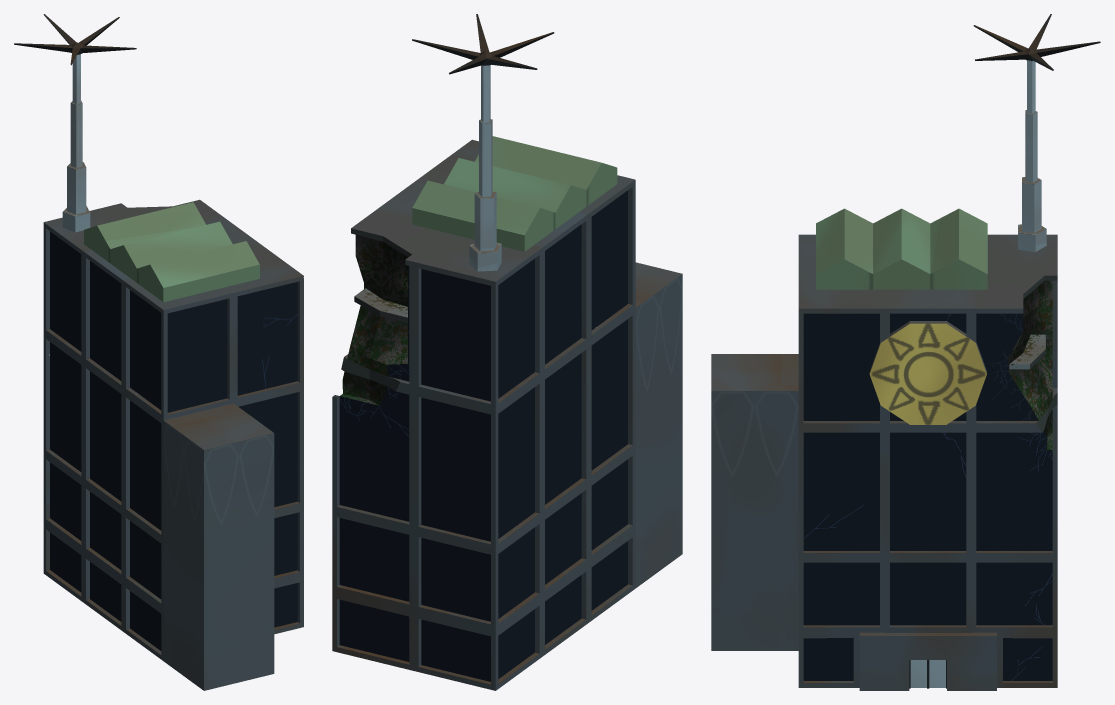
Rendered from Computer Building.fbx.
3 views of the same model, side by side, from view 1: azimuth 30°, elevation 25°; view 2: azimuth 150°, elevation 25°; view 3: azimuth 270°, elevation 25° (orthographic). The views are drawn at different scales.
Visible parts, largest first — view 1: Cube; view 2: Cube; view 3: Cube.
Boxes of the visible parts, left/top/right/bottom form: Cube: left=14, top=14, right=303, bottom=690; Cube: left=332, top=14, right=682, bottom=690; Cube: left=711, top=14, right=1100, bottom=690.
Size of the model in its own units: 445 by 255 by 735.
